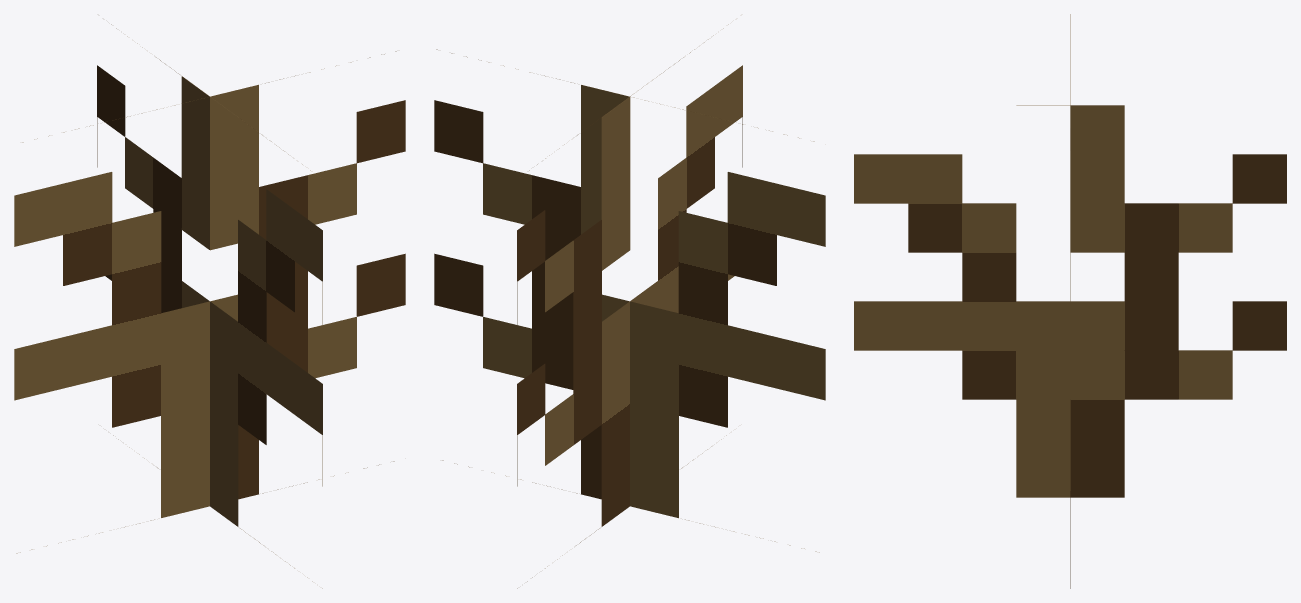
Rendered from Dead_Bush.fbx.
3 renders of one model, left to right at view 1: azimuth 30°, elevation 25°; view 2: azimuth 150°, elevation 25°; view 3: azimuth 270°, elevation 25°, orthographic. The views are drawn at different scales.
Parts seen in each view (by area): view 1: Cube.457; view 2: Cube.457; view 3: Cube.457.
Part boxes in pixels (box(x1,y1,x2,y2)): Cube.457: box(14, 24, 405, 588); Cube.457: box(434, 24, 825, 588); Cube.457: box(854, 14, 1286, 588).
Bounding box in the file's own units: 200 × 200 × 200.
1 material, 1 textured.
